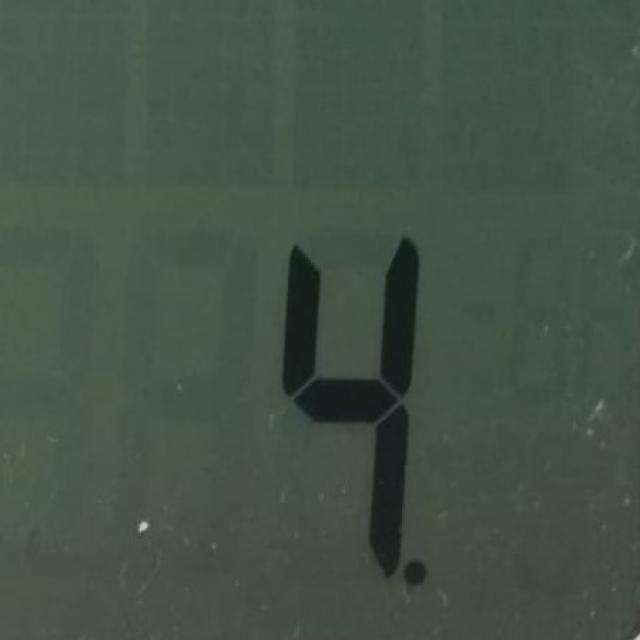.: (402, 557, 430, 589)
4: (272, 229, 422, 588)
